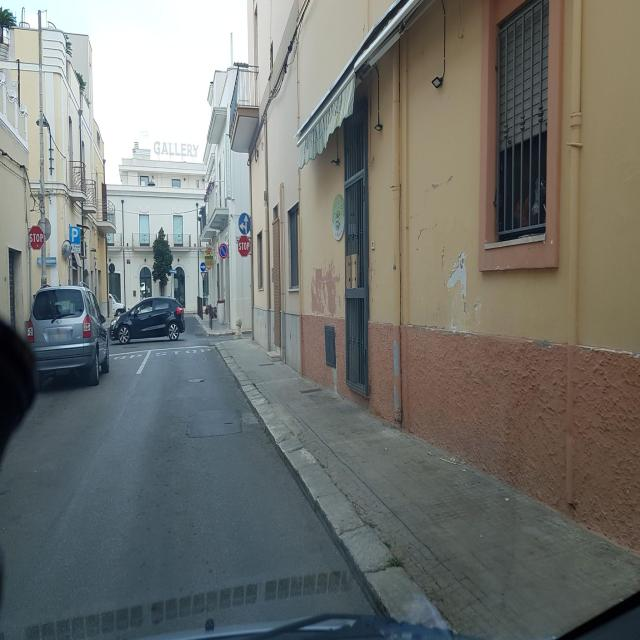forb_stopping: (219, 243, 228, 259)
